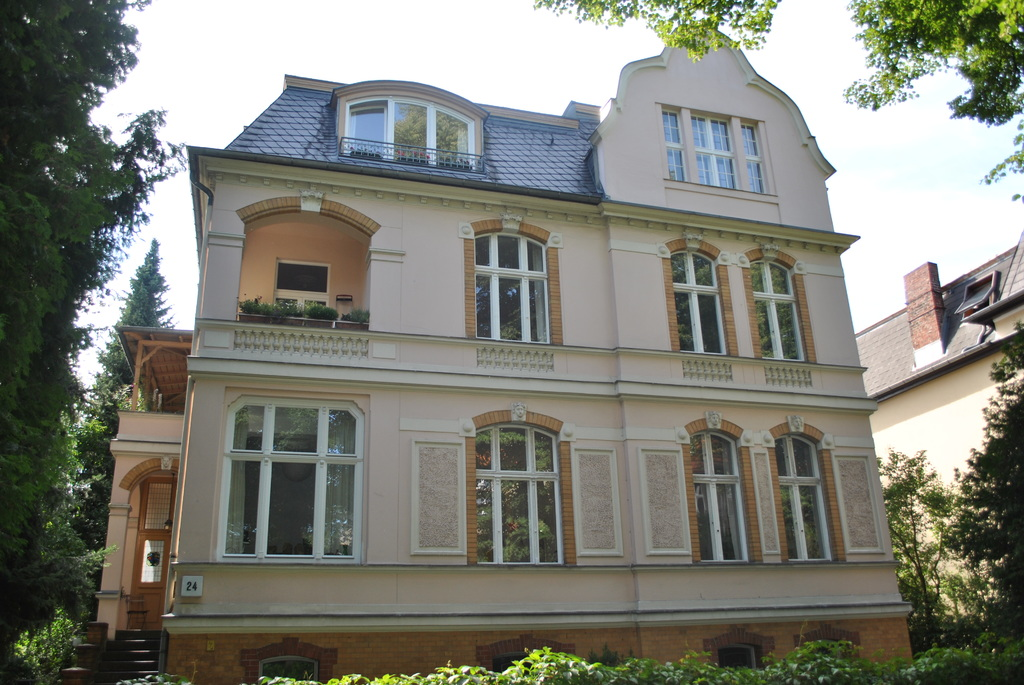Tree: (0, 0, 186, 678), (533, 0, 1024, 201), (72, 238, 177, 546), (945, 319, 1024, 631), (877, 448, 953, 641)
